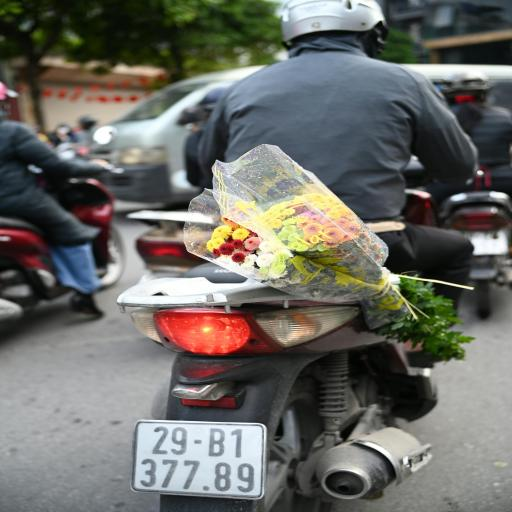place: (136, 418, 269, 498)
